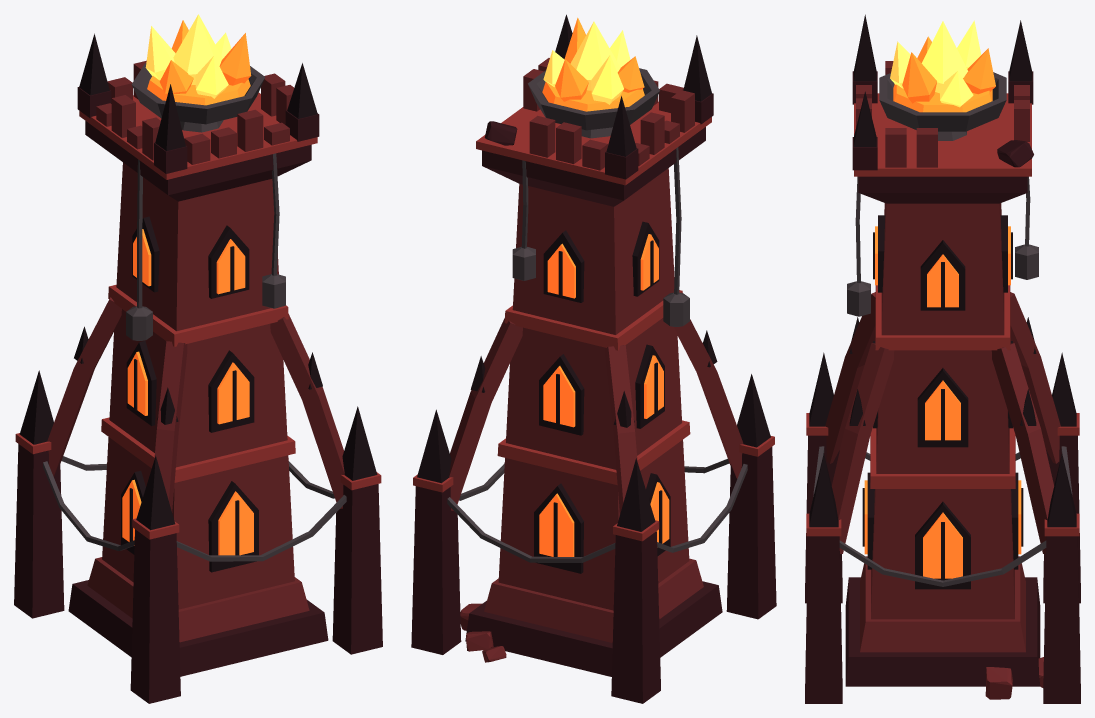
File: Hell_2_BurningTower.fbx
3 views of the same model, side by side, from view 1: azimuth 30°, elevation 25°; view 2: azimuth 150°, elevation 25°; view 3: azimuth 270°, elevation 25° (orthographic). The views are drawn at different scales.
Visible parts, largest first — view 1: Hell_2_BurningTower__Hell_Tile, Hell_2_BurningTower__Hell_GroundDark, Hell_2_BurningTower__Hell_Black, Hell_2_BurningTower__Hell_TileBorder, Hell_2_BurningTower__Hell_Iron, Hell_2_BurningTower__Neon_Hell_Orange, Hell_2_BurningTower__Neon_Hell_LavaHot, Hell_2_BurningTower__Neon_Hell_Lava; view 2: Hell_2_BurningTower__Hell_Tile, Hell_2_BurningTower__Hell_GroundDark, Hell_2_BurningTower__Hell_Black, Hell_2_BurningTower__Hell_TileBorder, Hell_2_BurningTower__Hell_Iron, Hell_2_BurningTower__Neon_Hell_Orange, Hell_2_BurningTower__Neon_Hell_LavaHot, Hell_2_BurningTower__Neon_Hell_Lava; view 3: Hell_2_BurningTower__Hell_Tile, Hell_2_BurningTower__Hell_GroundDark, Hell_2_BurningTower__Hell_Black, Hell_2_BurningTower__Hell_TileBorder, Hell_2_BurningTower__Hell_Iron, Hell_2_BurningTower__Neon_Hell_Orange, Hell_2_BurningTower__Neon_Hell_LavaHot, Hell_2_BurningTower__Neon_Hell_Lava.
Part boxes in pixels (<box>): Hell_2_BurningTower__Hell_Tile: <box>47,60,344,642</box>; Hell_2_BurningTower__Hell_GroundDark: <box>14,87,382,703</box>; Hell_2_BurningTower__Hell_Black: <box>19,33,377,572</box>; Hell_2_BurningTower__Hell_TileBorder: <box>15,92,381,539</box>; Hell_2_BurningTower__Hell_Iron: <box>43,63,346,561</box>; Hell_2_BurningTower__Neon_Hell_Orange: <box>122,229,253,555</box>; Hell_2_BurningTower__Neon_Hell_LavaHot: <box>145,14,231,98</box>; Hell_2_BurningTower__Neon_Hell_Lava: <box>147,20,251,105</box>; Hell_2_BurningTower__Hell_Tile: <box>449,58,743,662</box>; Hell_2_BurningTower__Hell_GroundDark: <box>411,93,776,703</box>; Hell_2_BurningTower__Hell_Black: <box>417,14,770,573</box>; Hell_2_BurningTower__Hell_TileBorder: <box>413,101,774,541</box>; Hell_2_BurningTower__Hell_Iron: <box>447,68,747,562</box>; Hell_2_BurningTower__Neon_Hell_Orange: <box>539,234,669,556</box>; Hell_2_BurningTower__Neon_Hell_LavaHot: <box>543,21,630,104</box>; Hell_2_BurningTower__Neon_Hell_Lava: <box>542,17,644,111</box>; Hell_2_BurningTower__Hell_Tile: <box>825,61,1060,699</box>; Hell_2_BurningTower__Hell_GroundDark: <box>805,71,1080,703</box>; Hell_2_BurningTower__Hell_Black: <box>809,14,1076,589</box>; Hell_2_BurningTower__Hell_TileBorder: <box>806,93,1079,536</box>; Hell_2_BurningTower__Hell_Iron: <box>813,72,1072,586</box>; Hell_2_BurningTower__Neon_Hell_Orange: <box>864,226,1021,578</box>; Hell_2_BurningTower__Neon_Hell_LavaHot: <box>890,20,981,107</box>; Hell_2_BurningTower__Neon_Hell_Lava: <box>893,36,995,112</box>.
Bounding box in the file's own units: 44 × 111 × 44.
